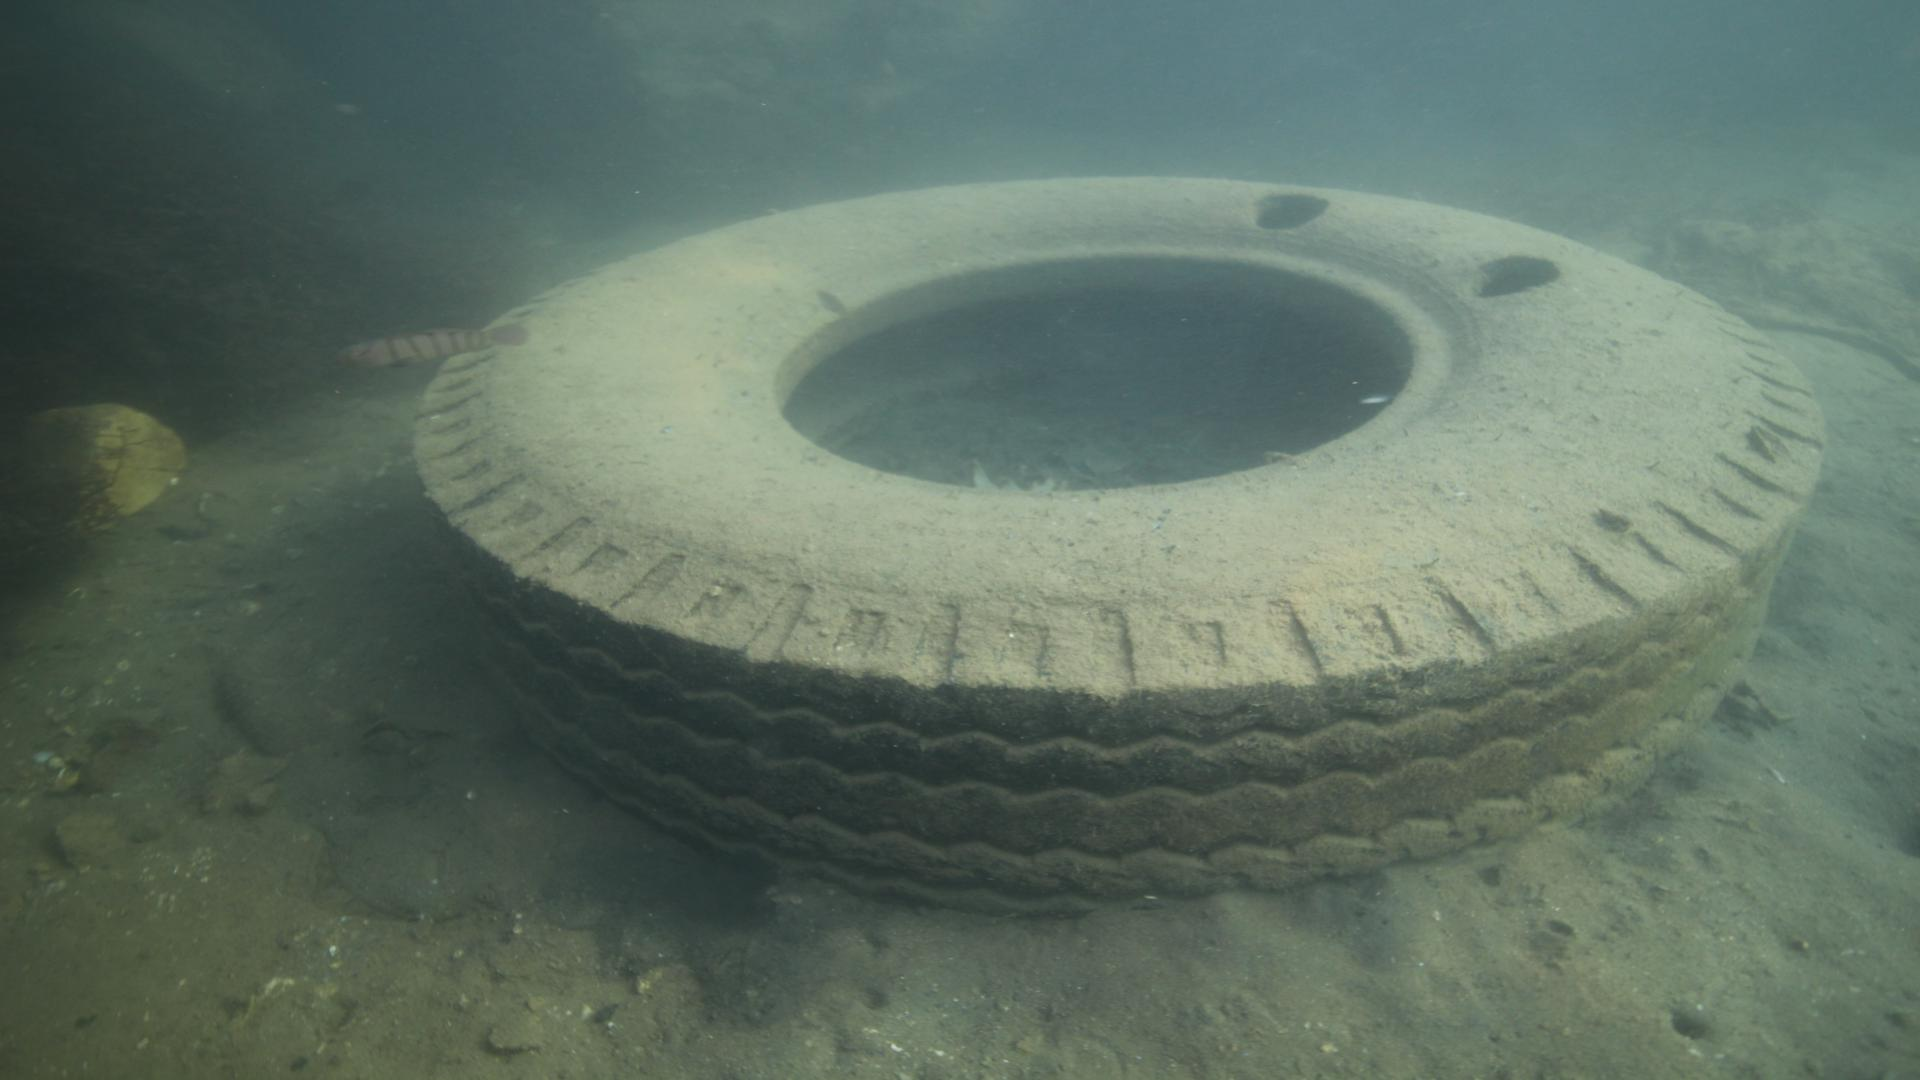tire: (411, 173, 1825, 913)
